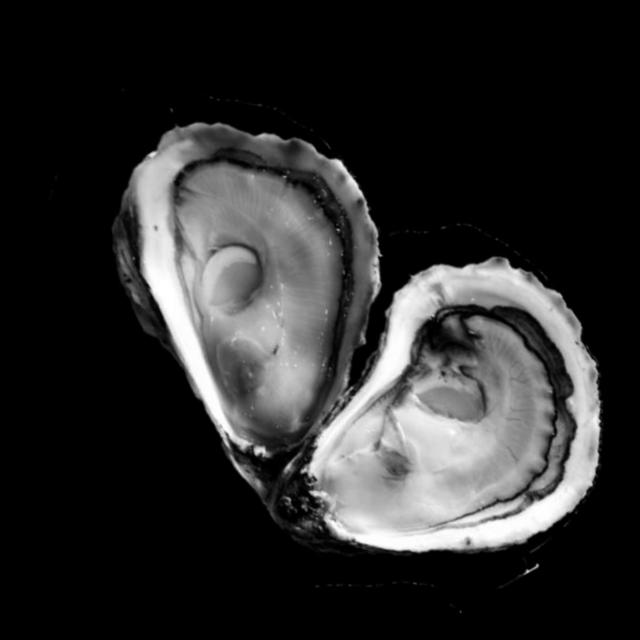Oyster-Open: (238, 260, 602, 592), (111, 122, 381, 536)
